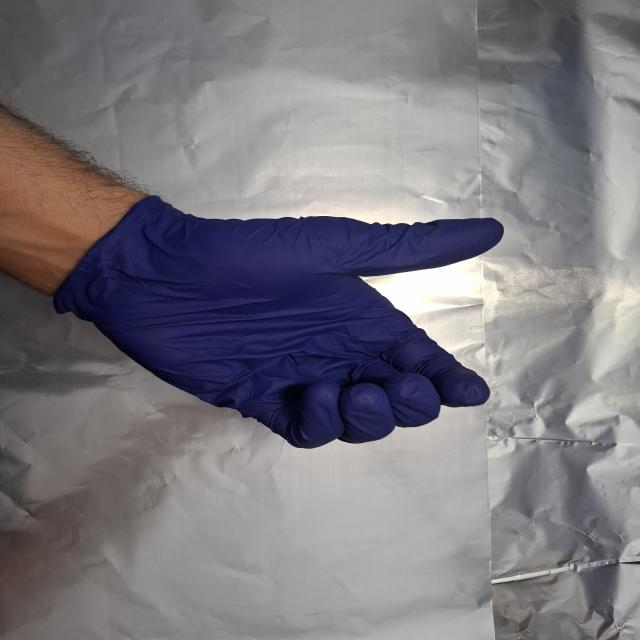glove_on: (54, 196, 509, 453)
